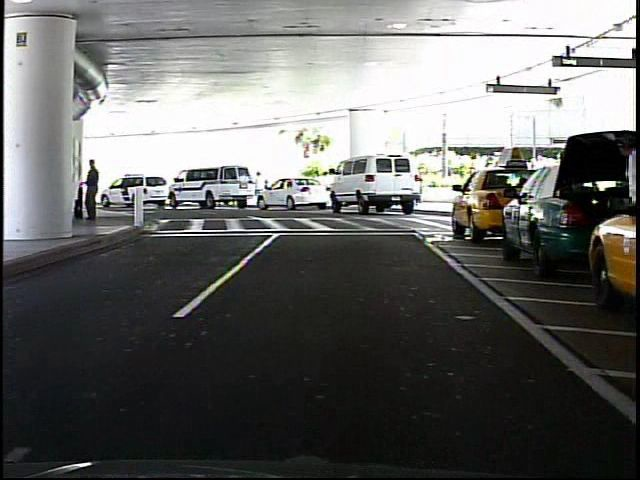person: (595, 132, 639, 284), (86, 157, 105, 223), (252, 170, 268, 206)
